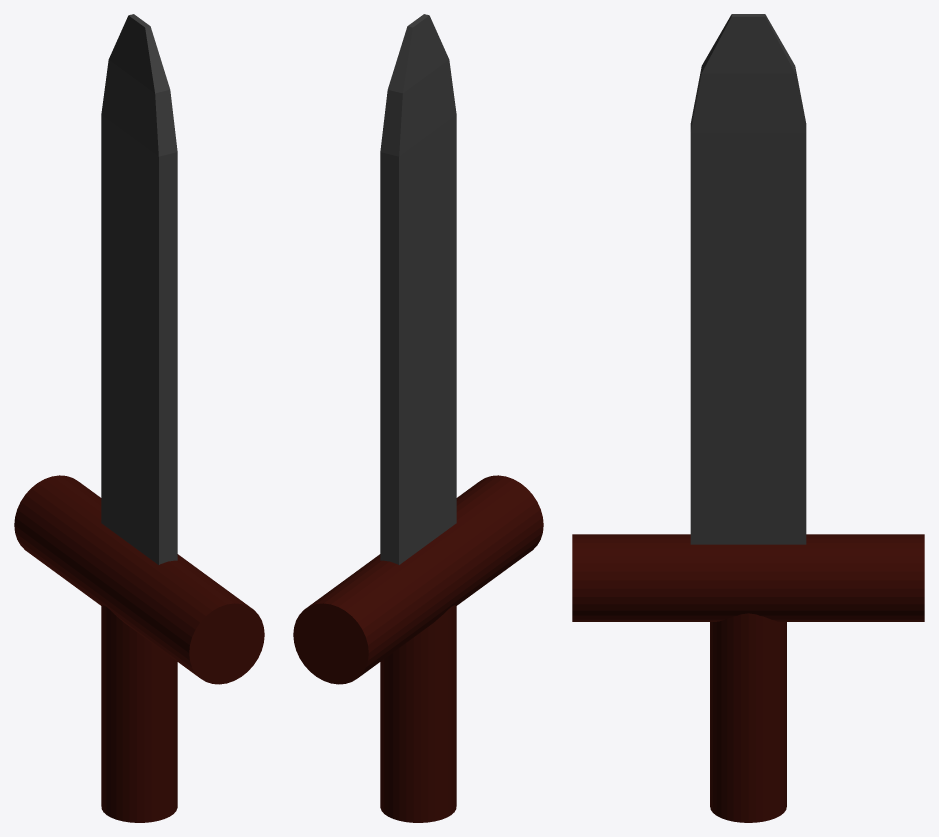
Rendered from sword oof doom.obj.
3 views of the same model, side by side, from view 1: azimuth 30°, elevation 25°; view 2: azimuth 150°, elevation 25°; view 3: azimuth 270°, elevation 25° (orthographic).
Parts seen in each view (by area): view 1: Cylinder; view 2: Cylinder; view 3: Cylinder.
Part boxes in pixels (x1=…): Cylinder: x1=14, y1=14, x2=264, y2=822; Cylinder: x1=293, y1=14, x2=543, y2=822; Cylinder: x1=572, y1=14, x2=924, y2=822.
Size of the model in its own units: 0.6637 by 6.61 by 2.66.
